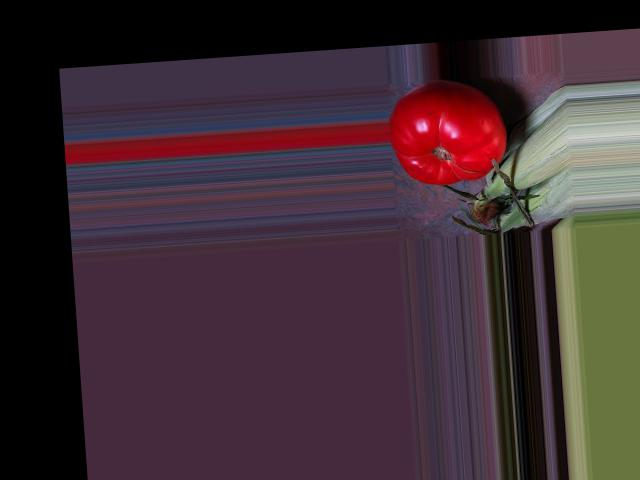tomato: (387, 75, 509, 188)
